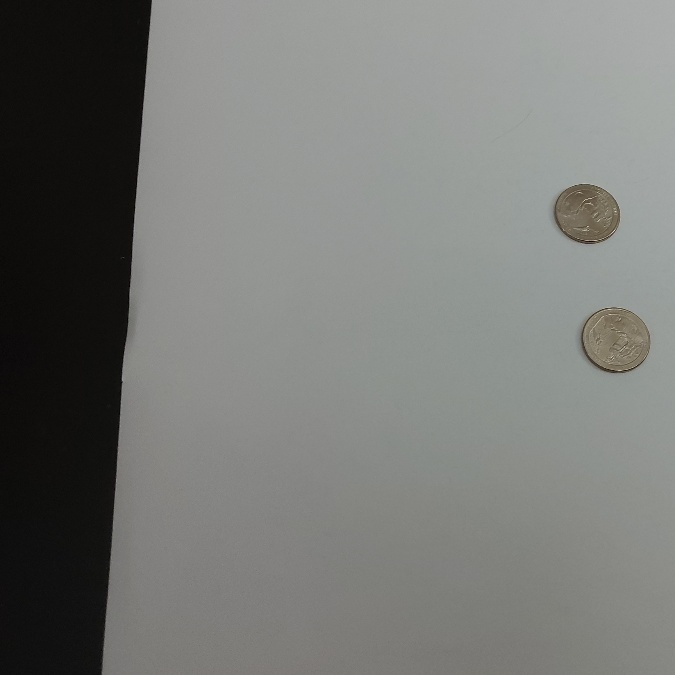coin_quarter: (580, 302, 655, 372), (551, 184, 623, 248)
